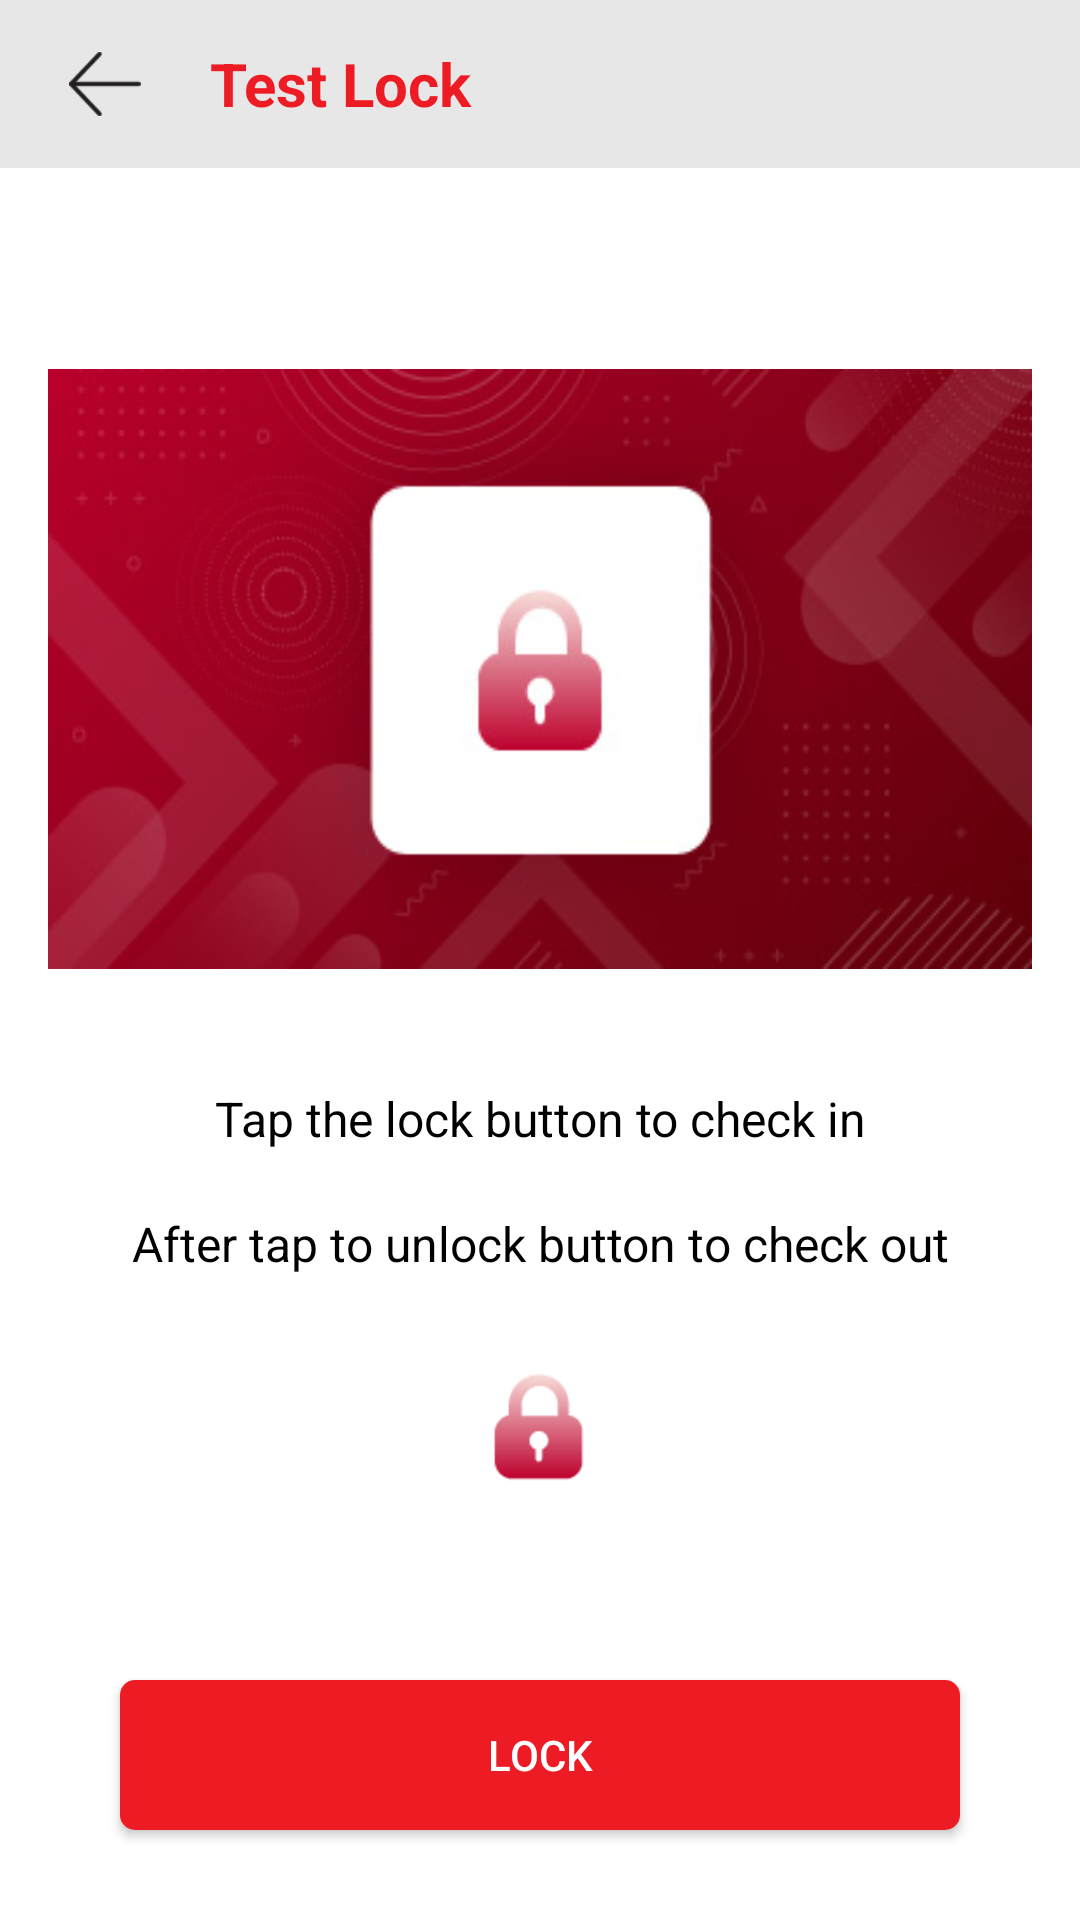

Icon bounding boxes for this 1080 x 1920 phone screenshot, format box(x1, y1, x2, y2):
back: box(69, 52, 141, 116)
